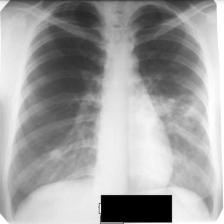tuberculosis: (3, 0, 220, 219)
